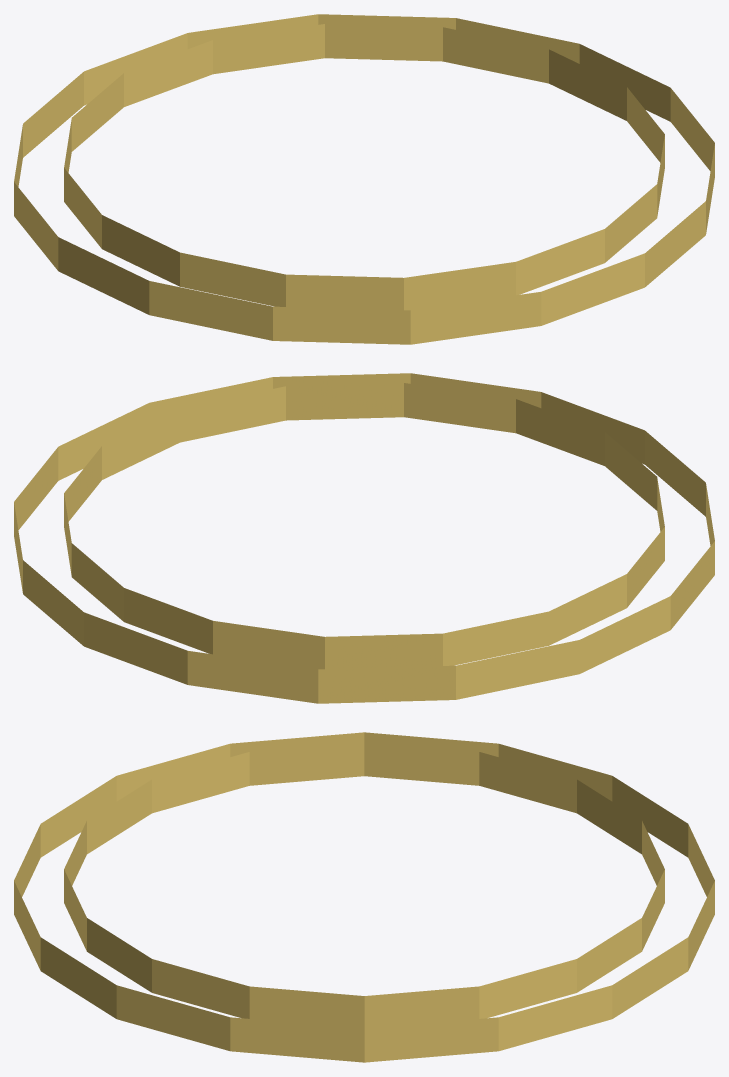
File: acc_halo.glb
3 views of the same model, one above another, from view 1: azimuth 30°, elevation 25°; view 2: azimuth 150°, elevation 25°; view 3: azimuth 270°, elevation 25° (orthographic).
Visible parts, largest first — view 1: acc_halo; view 2: acc_halo; view 3: acc_halo.
Part boxes in pixels (box(x1,y1,x2,y2)): acc_halo: box(14, 14, 714, 344); acc_halo: box(14, 373, 714, 703); acc_halo: box(14, 732, 714, 1062).
Bounding box in the file's own units: 0.28 × 0.02 × 0.28.
Materials: 1 (1 with a texture image).
